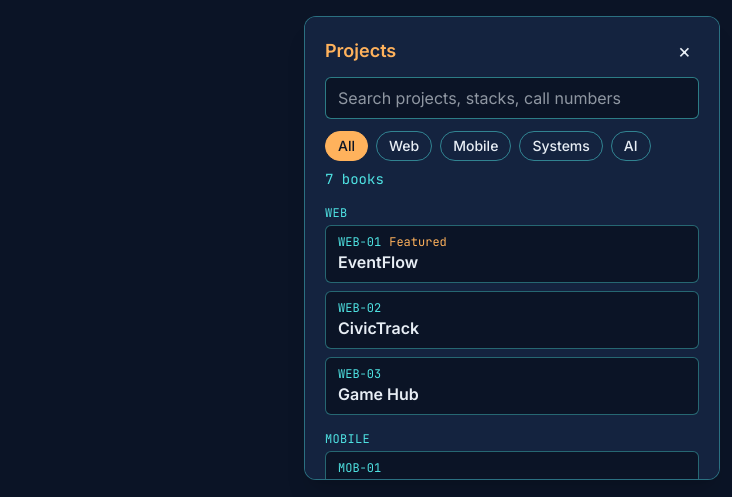
Scenario: LibraryPanel › opens a book with its slogan, problem, picture and links
The width and height of the screenshot is (732, 497).
Click the button with aria-label "WEB-01 EventFlow" at (360, 242), box x1=325 y1=225 x2=699 y2=283
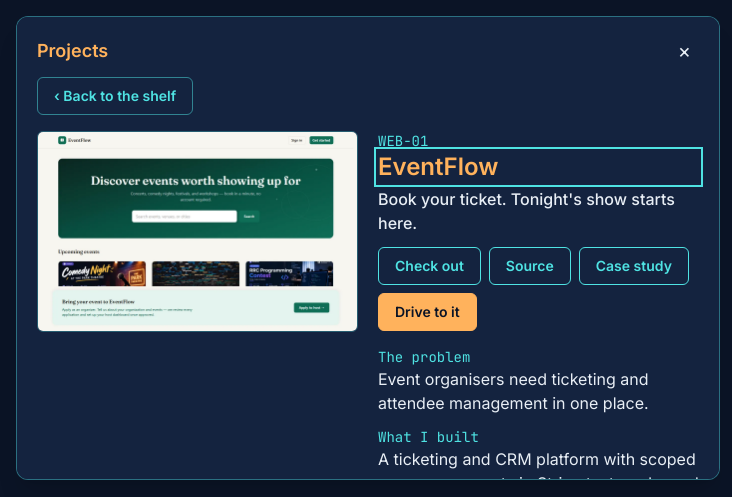
Expected: the text "Book your ticket. Tonight's show starts here." is shown, x1=378 y1=187 x2=699 y2=235
Expected: the text "The problem" is shown, x1=378 y1=348 x2=470 y2=366
Expected: the picture named "EventFlow home page" is shown, x1=37 y1=131 x2=358 y2=332
